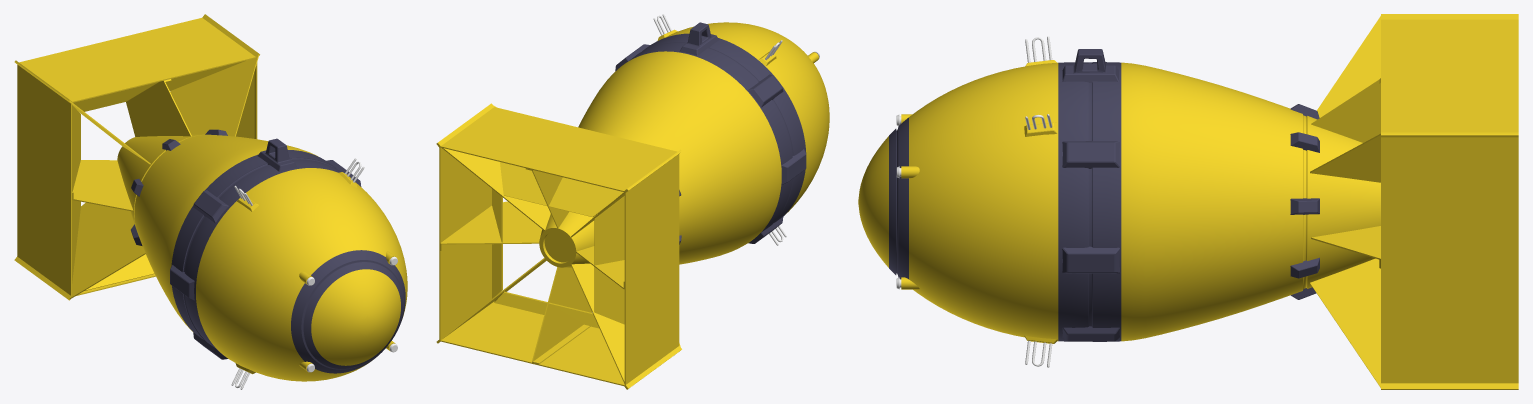
File: _at man.fbx
3 views of the same model, side by side, from view 1: azimuth 30°, elevation 25°; view 2: azimuth 150°, elevation 25°; view 3: azimuth 270°, elevation 25° (orthographic). The views are drawn at different scales.
Parts seen in each view (by area): view 1: Curve.001, Plane.039, Plane.038, Plane.032, Plane.028, Plane.035, Plane.020, Plane.022, Plane.034, Cube.031, Plane.029, Cube.020 (+5 smaller); view 2: Curve.001, Plane.039, Plane.038, Plane.037, Plane.036, Plane.023, Plane.024, Plane.028, Plane.034, Plane.021, Plane.032, Plane.027 (+11 smaller); view 3: Curve.001, Plane.037, Plane.038, Plane.031, Plane.035, Plane.026, Plane.028, Cube, Cube.018, Cube.031, Plane.024, Cube.017.
Part boxes in pixels (x1=…): Curve.001: x1=117, y1=134, x2=407, y2=381; Plane.039: x1=14, y1=61, x2=71, y2=299; Plane.038: x1=15, y1=14, x2=259, y2=102; Plane.032: x1=69, y1=202, x2=145, y2=299; Plane.028: x1=170, y1=55, x2=258, y2=136; Plane.035: x1=126, y1=79, x2=191, y2=136; Plane.020: x1=72, y1=160, x2=133, y2=211; Plane.022: x1=84, y1=254, x2=154, y2=290; Plane.034: x1=73, y1=81, x2=159, y2=111; Cube.031: x1=257, y1=138, x2=297, y2=171; Plane.029: x1=236, y1=73, x2=254, y2=138; Cube.020: x1=193, y1=190, x2=228, y2=223; Curve.001: x1=539, y1=22, x2=829, y2=268; Plane.039: x1=624, y1=150, x2=681, y2=388; Plane.038: x1=437, y1=103, x2=681, y2=192; Plane.037: x1=436, y1=143, x2=491, y2=342; Plane.036: x1=437, y1=301, x2=679, y2=389; Plane.023: x1=532, y1=267, x2=591, y2=364; Plane.024: x1=440, y1=201, x2=542, y2=250; Plane.028: x1=442, y1=105, x2=550, y2=230; Plane.034: x1=549, y1=177, x2=623, y2=217; Plane.021: x1=594, y1=196, x2=624, y2=265; Plane.032: x1=571, y1=263, x2=680, y2=383; Plane.027: x1=500, y1=162, x2=547, y2=206; Curve.001: x1=858, y1=62, x2=1380, y2=341; Plane.037: x1=1381, y1=133, x2=1518, y2=389; Plane.038: x1=1381, y1=14, x2=1518, y2=133; Plane.031: x1=1310, y1=258, x2=1380, y2=387; Plane.035: x1=1311, y1=78, x2=1380, y2=142; Plane.026: x1=1317, y1=16, x2=1380, y2=117; Plane.028: x1=1310, y1=133, x2=1380, y2=182; Cube: x1=1062, y1=141, x2=1119, y2=168; Cube.018: x1=1062, y1=246, x2=1119, y2=273; Cube.031: x1=1062, y1=49, x2=1119, y2=82; Plane.024: x1=1311, y1=226, x2=1380, y2=268; Cube.017: x1=1062, y1=326, x2=1119, y2=341.
Bounding box in the file's own units: 189 × 203 × 431.
